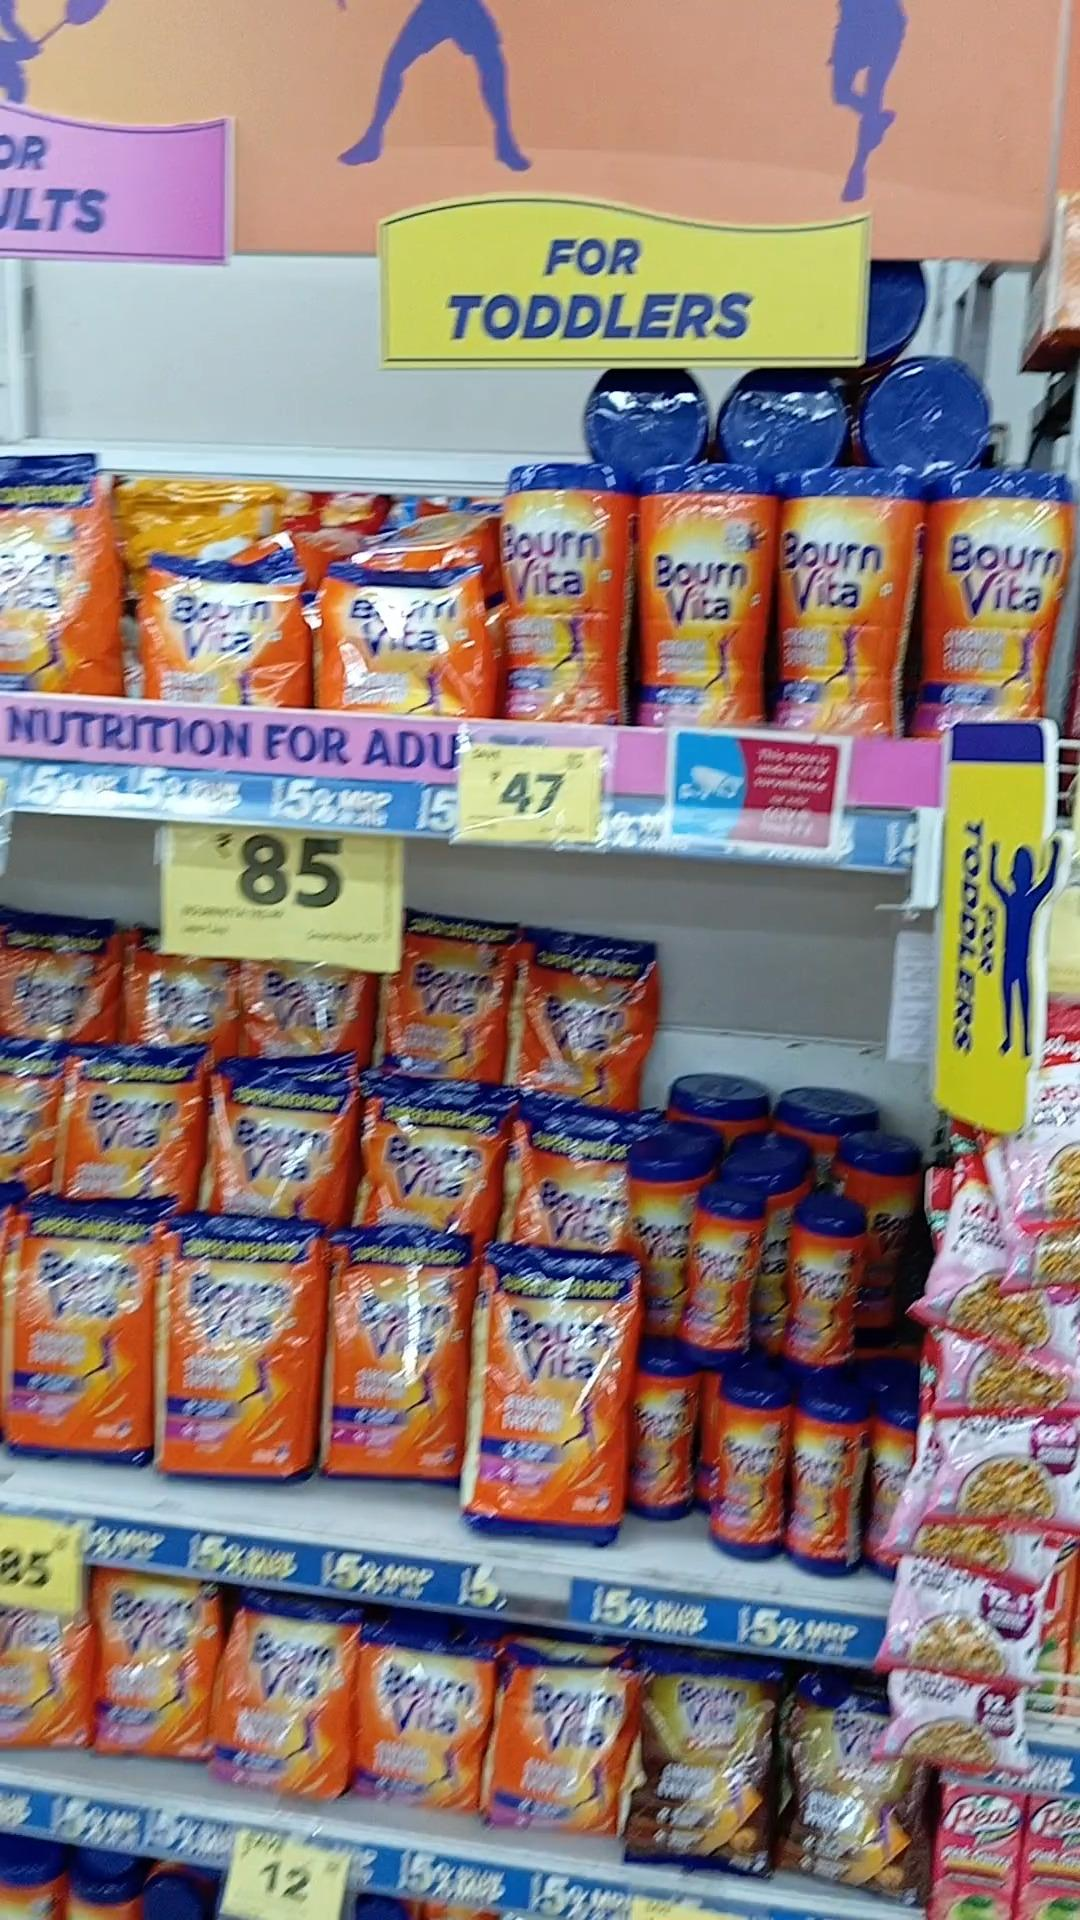BOURN_VITA_1_KG_JAR: (498, 464, 624, 728), (775, 475, 899, 740), (640, 465, 764, 728), (928, 472, 1054, 717)
BOURN_VITA_1_KG_POUCH: (473, 1237, 622, 1535), (156, 1220, 310, 1477), (4, 1204, 144, 1461), (330, 1229, 456, 1477), (207, 1062, 345, 1213), (65, 1038, 196, 1192), (518, 923, 638, 1088), (400, 907, 500, 1079), (365, 1091, 495, 1218)
BOURN_VITA_500_G_JAR: (786, 1197, 872, 1365), (711, 1371, 787, 1557), (680, 1182, 770, 1332), (794, 1386, 862, 1576), (636, 1346, 695, 1515)
BOURN_VITA_500_G_POUCH: (318, 559, 487, 709), (145, 553, 302, 707), (223, 1596, 343, 1797), (356, 1623, 479, 1817), (489, 1652, 618, 1829)
BOURN_VITA_750_G_POUCH: (94, 1573, 214, 1762)
BOURN_VITA_FIVE_STAR_MAGIC_500_G_POUCH: (779, 1677, 927, 1905), (636, 1656, 765, 1883)
